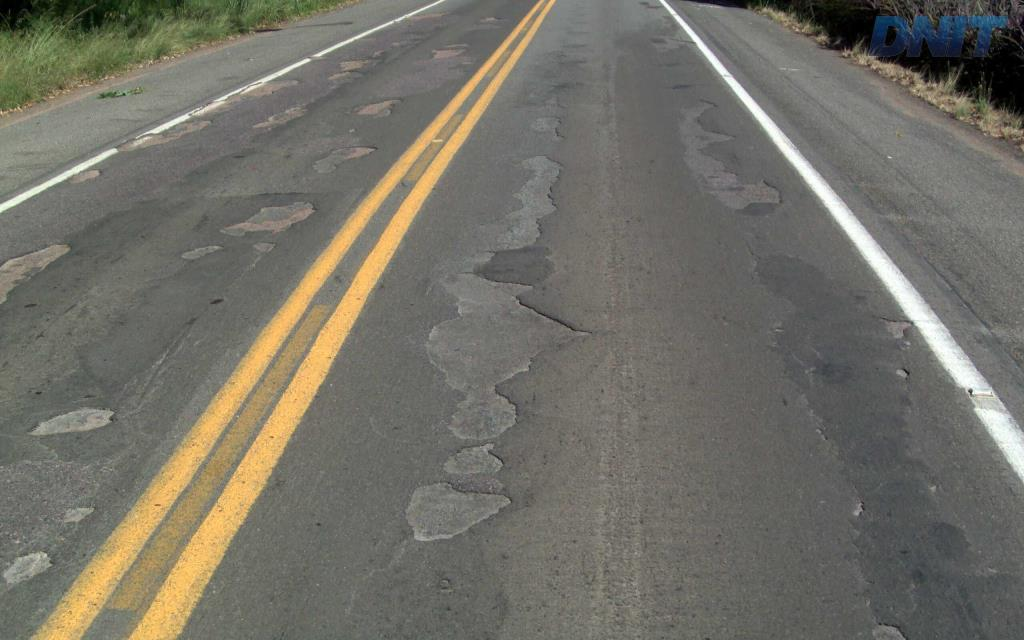pothole: (411, 269, 602, 441), (666, 94, 783, 212), (489, 149, 569, 255), (405, 477, 512, 546), (432, 440, 507, 476), (523, 108, 567, 142), (872, 313, 914, 341), (864, 615, 913, 638), (889, 364, 913, 381)
